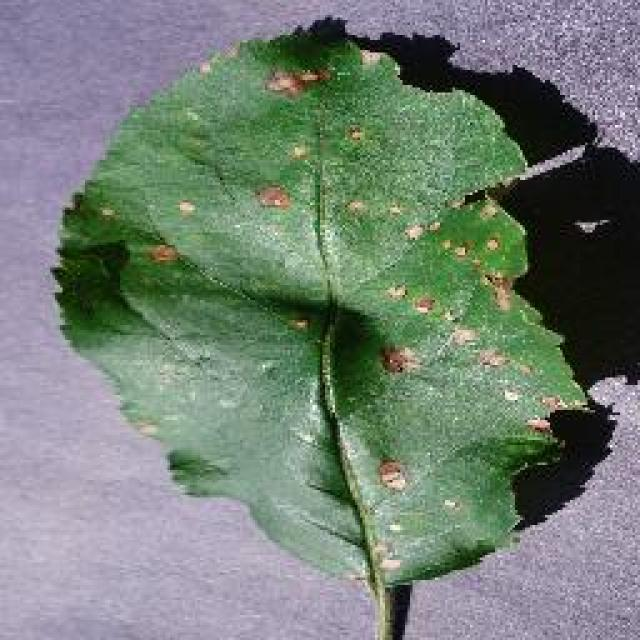Apple___Black_rot: (86, 96, 552, 529)
